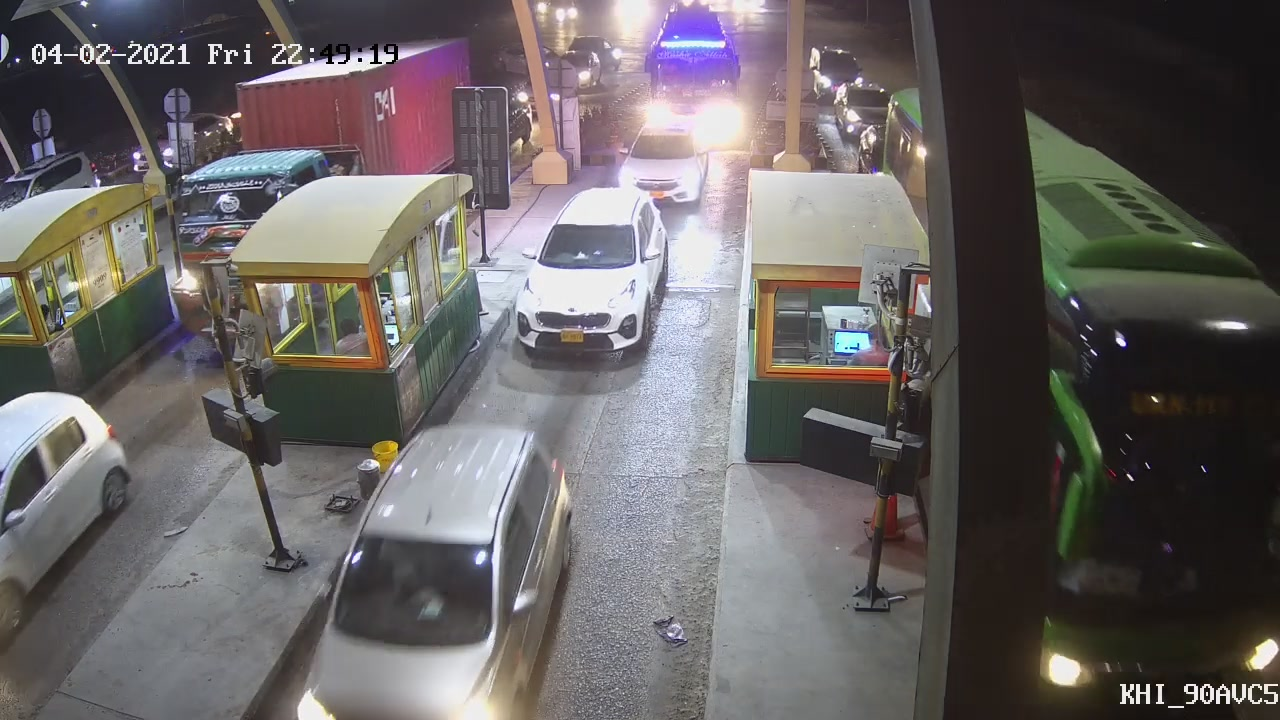F1: (512, 186, 675, 365)
